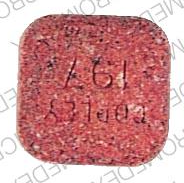Square: (16, 14, 169, 165)
